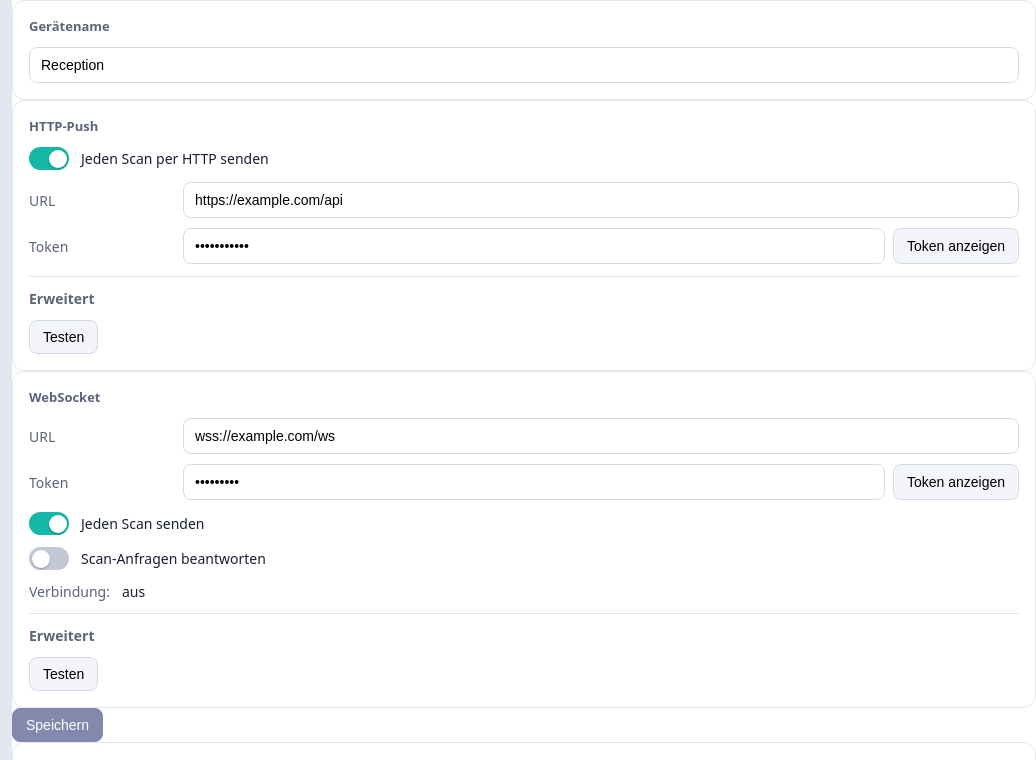
ServerSettings › masks tokens until reveal is clicked
Click the button with test id "http-token-reveal".
click(956, 246)  # box [893,228,1019,264]
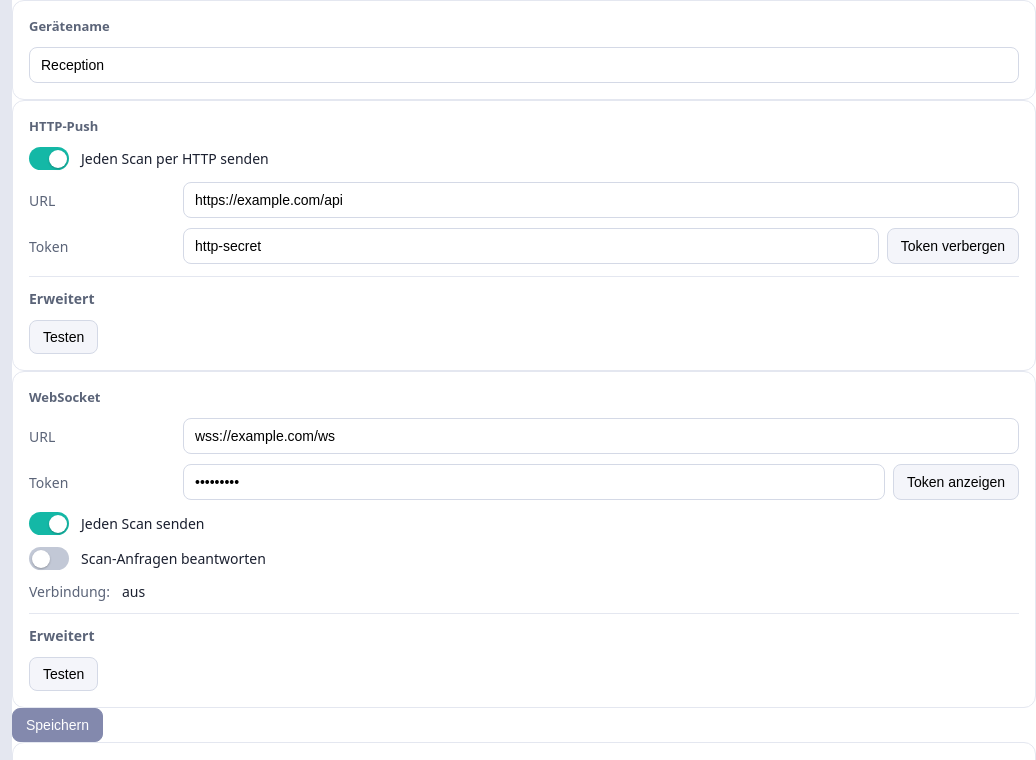
Now the field with test id "http-token" shows its text, box [183,228,879,264]
Click the button with test id "http-token-reveal".
click(953, 246)  # box [887,228,1019,264]
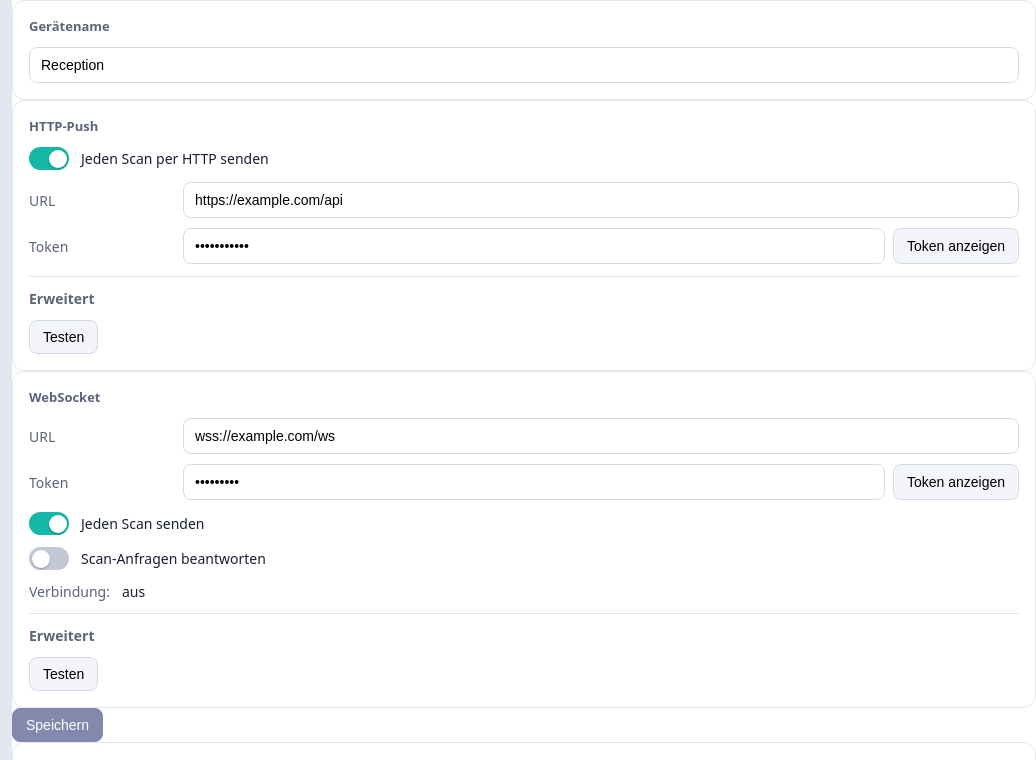
Now the password field with test id "http-token" hides its text, box [183,228,885,264]
